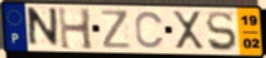C: (133, 10, 166, 50)
H: (56, 6, 96, 52)
N: (26, 6, 60, 49)
S: (205, 10, 239, 53)
X: (170, 9, 206, 51)
Z: (99, 8, 134, 50)
